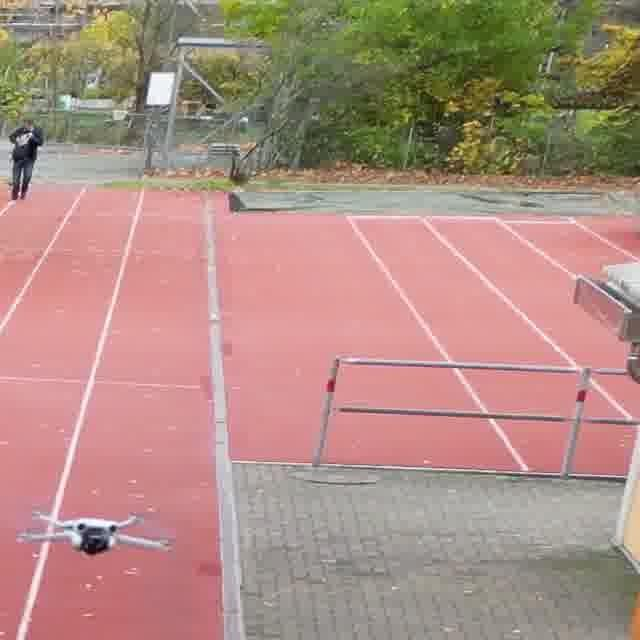Drohne: (18, 511, 169, 555)
